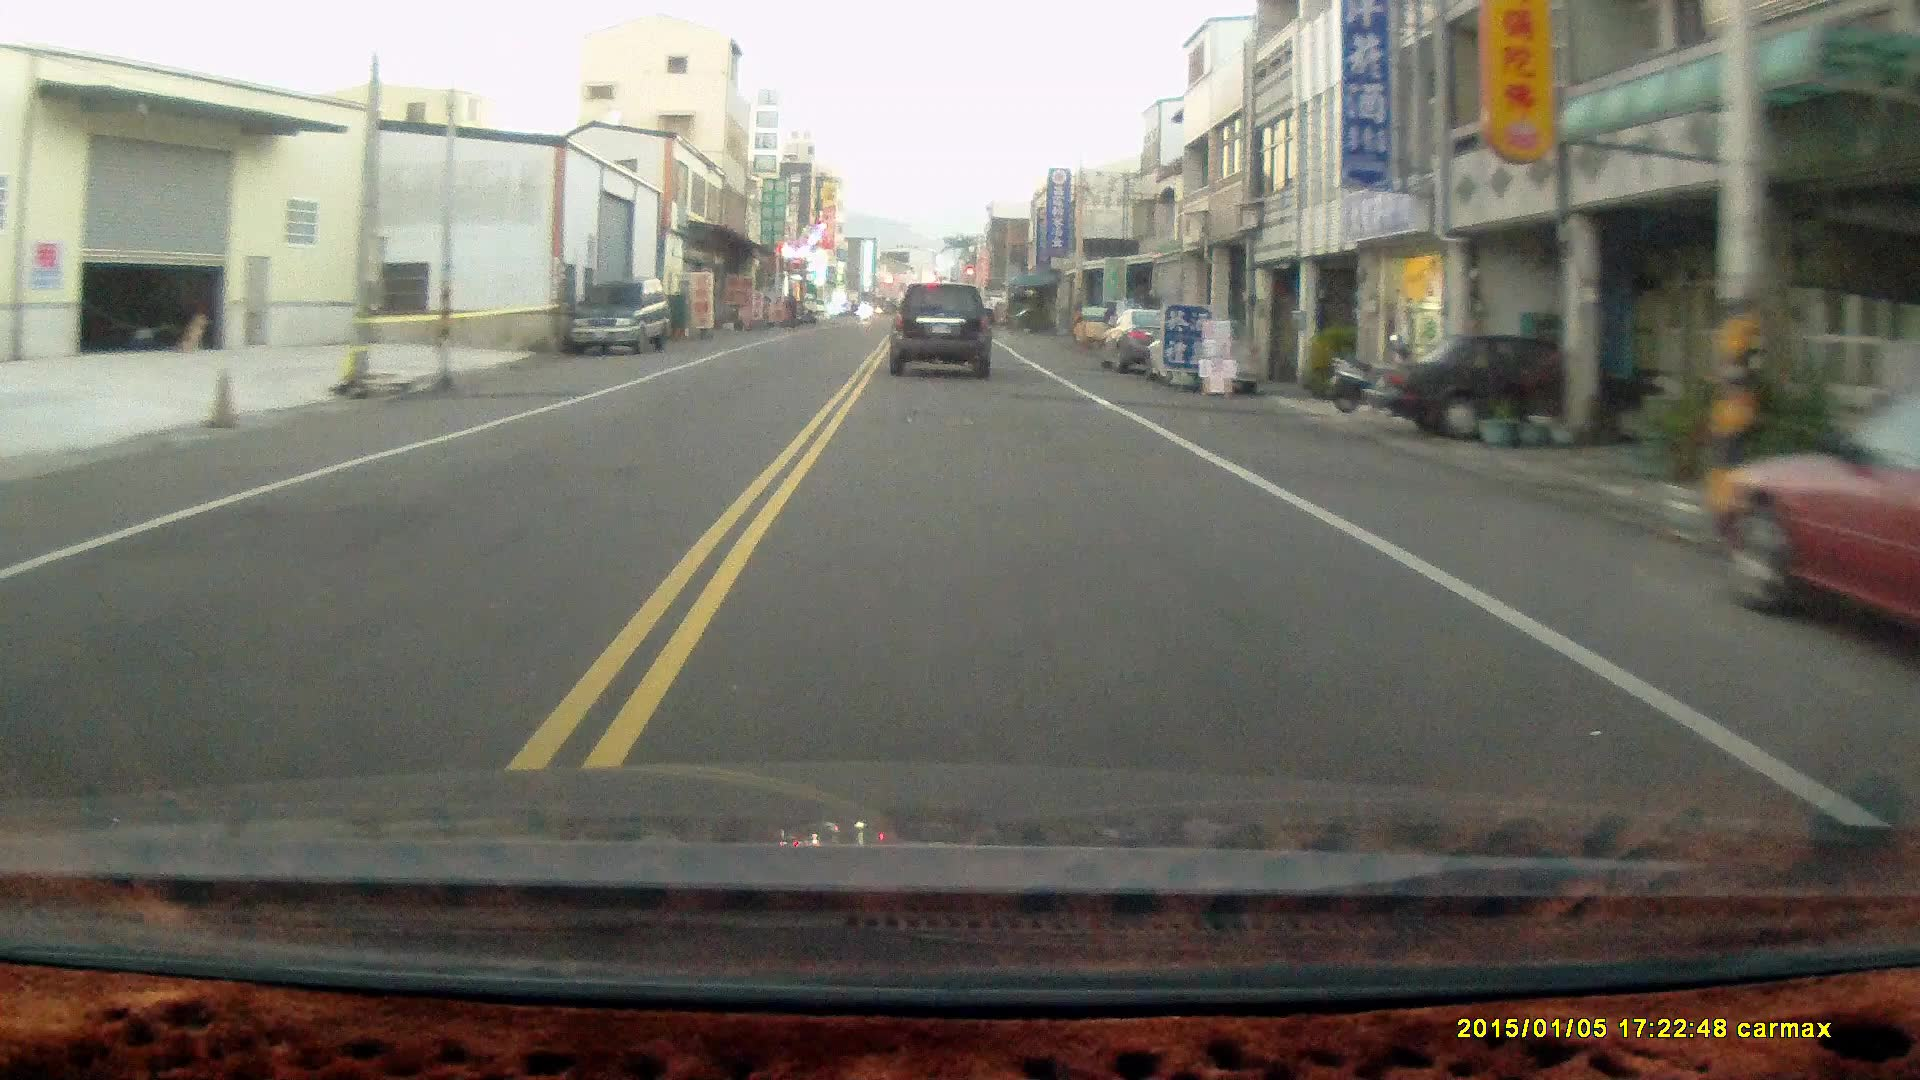vehicle: (1702, 368, 1920, 659), (1369, 332, 1687, 440), (890, 282, 996, 380), (571, 276, 676, 357)
